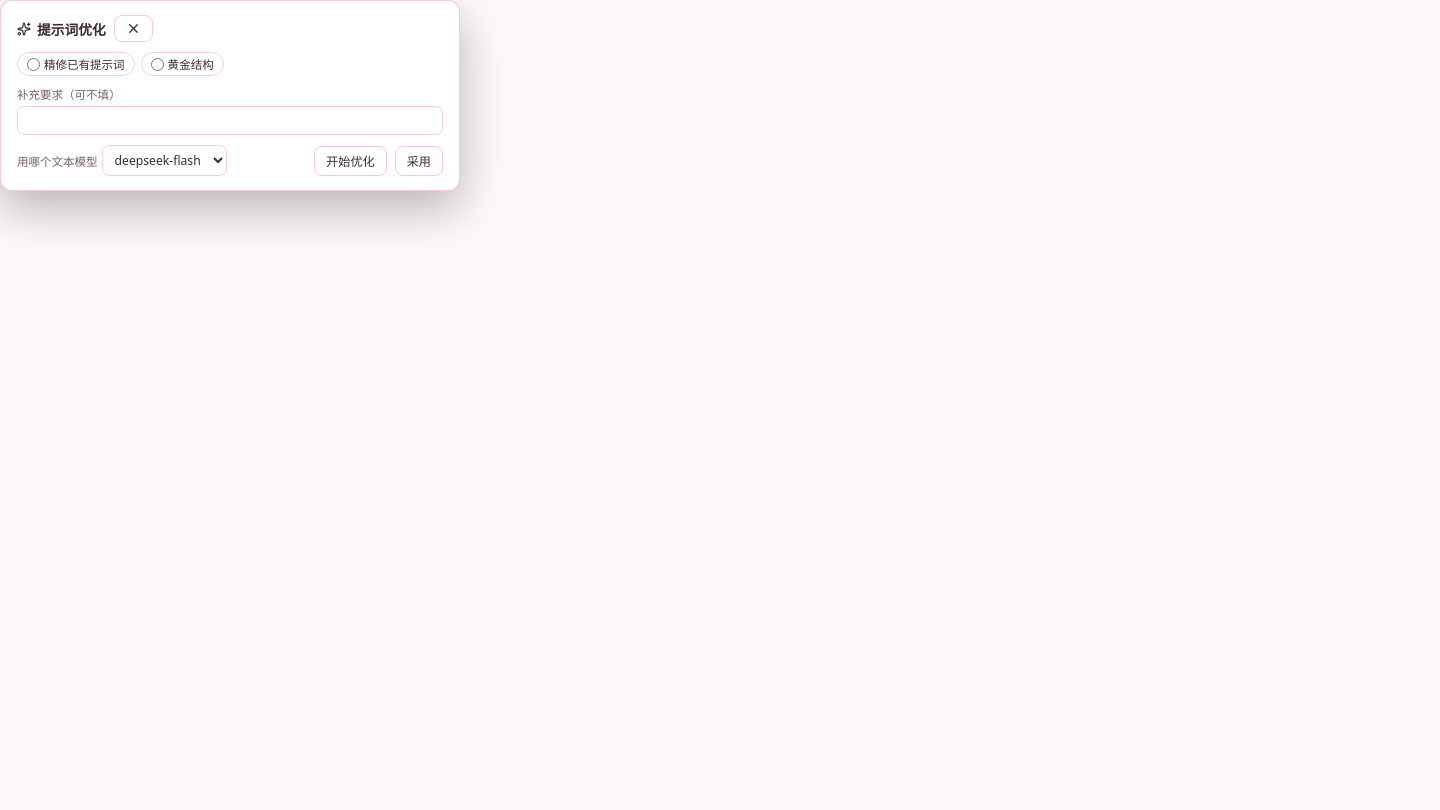
Scenario: the eight-part structure mode in the prompt optimizer › sends the clip length with the request and shows the passing rule check
Click the radio button labelled "黄金结构": (157, 64) [151,58,164,70]
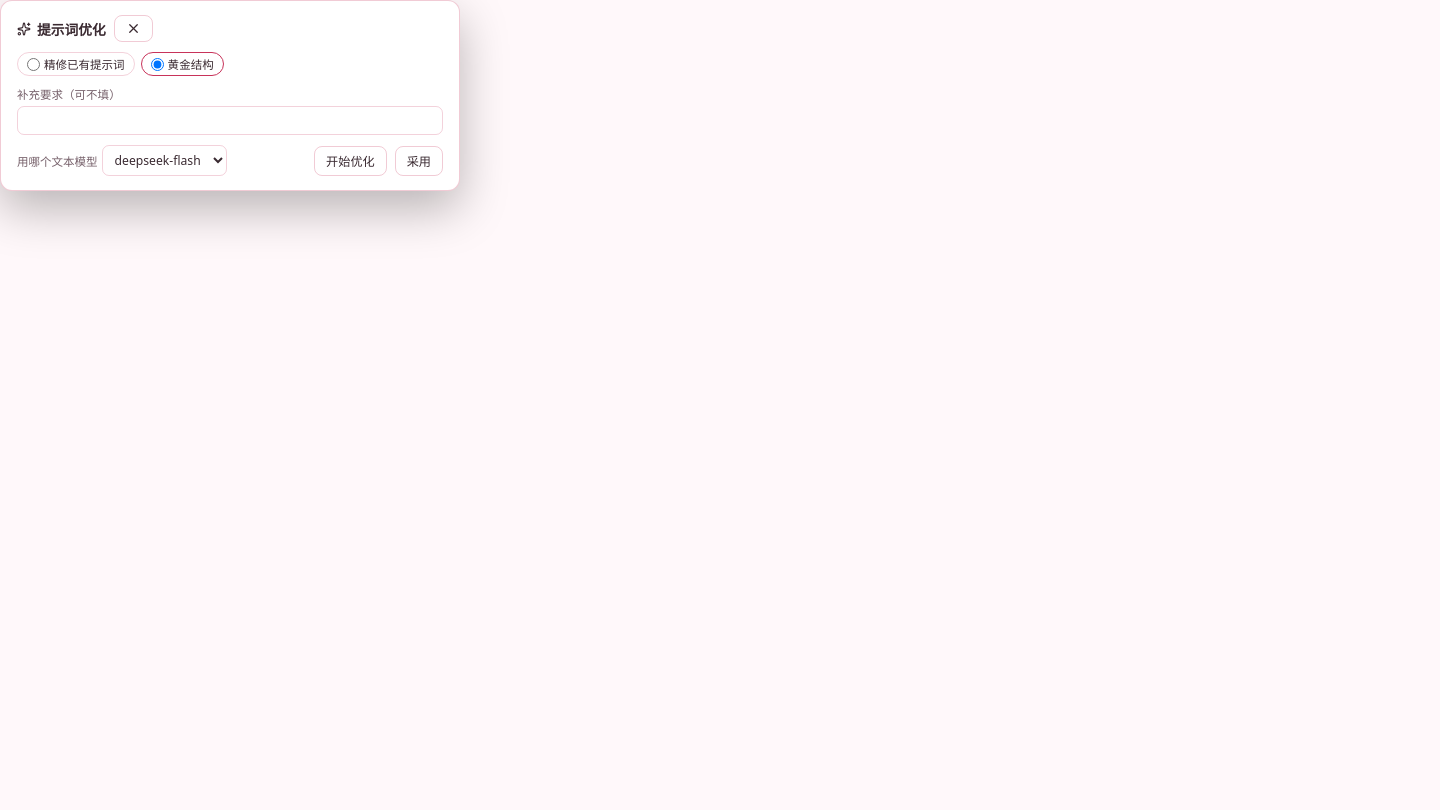
Click the button "开始优化": (350, 160) [314,146,387,176]
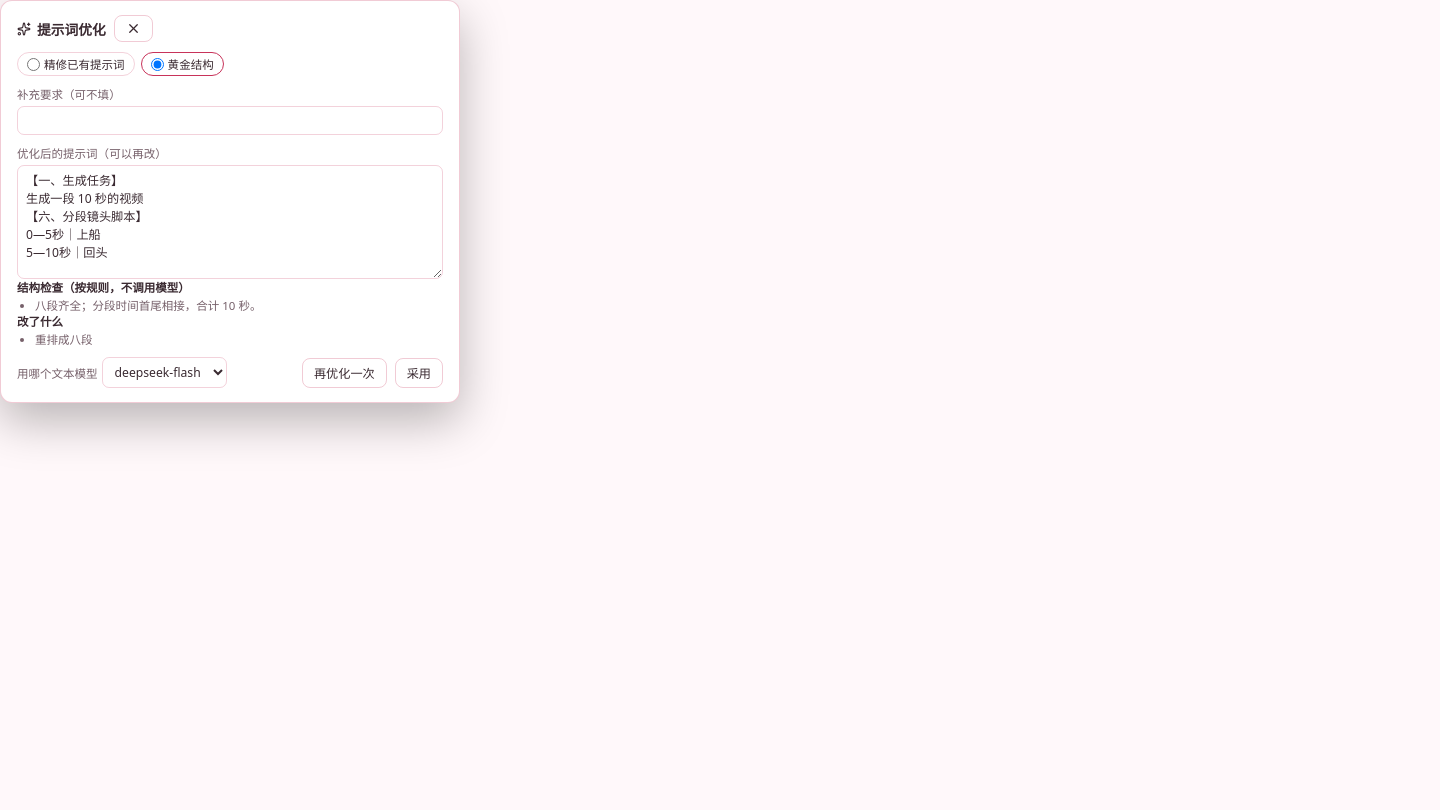
Check: the list item "八段齐全；分段时间首尾相接，合计 10 秒。" is shown, box [35,298,262,313]
